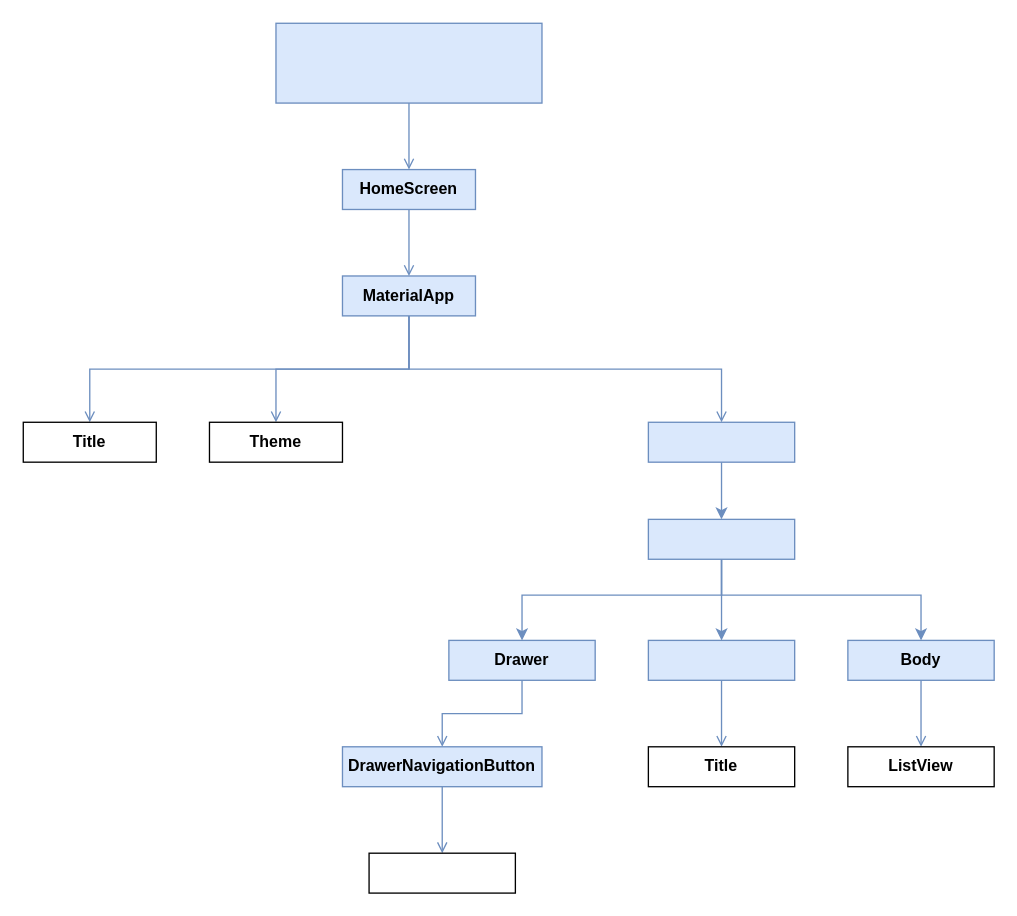
Image size: 1017x916. Some labels were removed from this diagram. The centre of each missing label's shape, as x and y in pixels:
"<Widget>" goes at point (441, 872).
"AppBar" goes at point (721, 659).
"Home" goes at point (721, 441).
"main (MyApp)" goes at point (408, 62).
"Scaffold" goes at point (721, 538).
